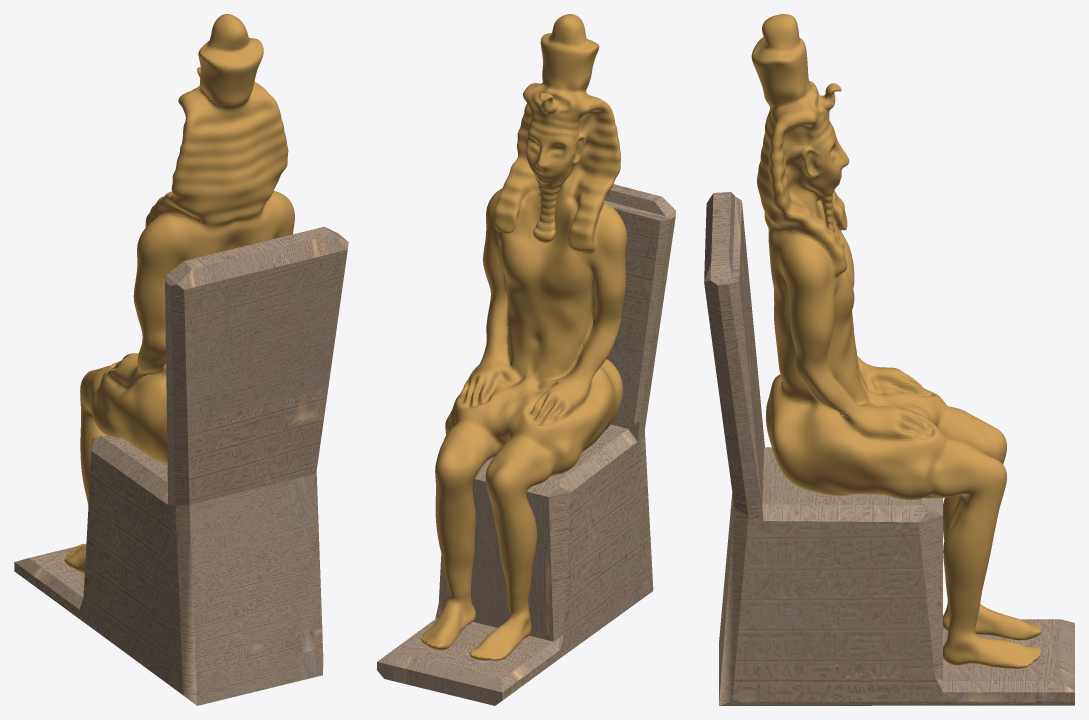
File: Ornament_Paraoh.glb
3 renders of one model, left to right at view 1: azimuth 30°, elevation 25°; view 2: azimuth 150°, elevation 25°; view 3: azimuth 270°, elevation 25°, orthographic. The views are drawn at different scales.
Visible parts, largest first — view 1: paraoh chair.001, paraoh.001; view 2: paraoh.001, paraoh chair.001; view 3: paraoh chair.001, paraoh.001.
Boxes of the visible parts, x1,y1,x2,y2 form: paraoh chair.001: (14, 226, 348, 705); paraoh.001: (64, 14, 294, 573); paraoh.001: (421, 14, 627, 660); paraoh chair.001: (377, 184, 675, 705); paraoh chair.001: (704, 192, 1074, 705); paraoh.001: (751, 14, 1041, 668).
Size of the model in its own units: 32.22 by 113 by 57.71.
Materials: 2 (1 with a texture image).
